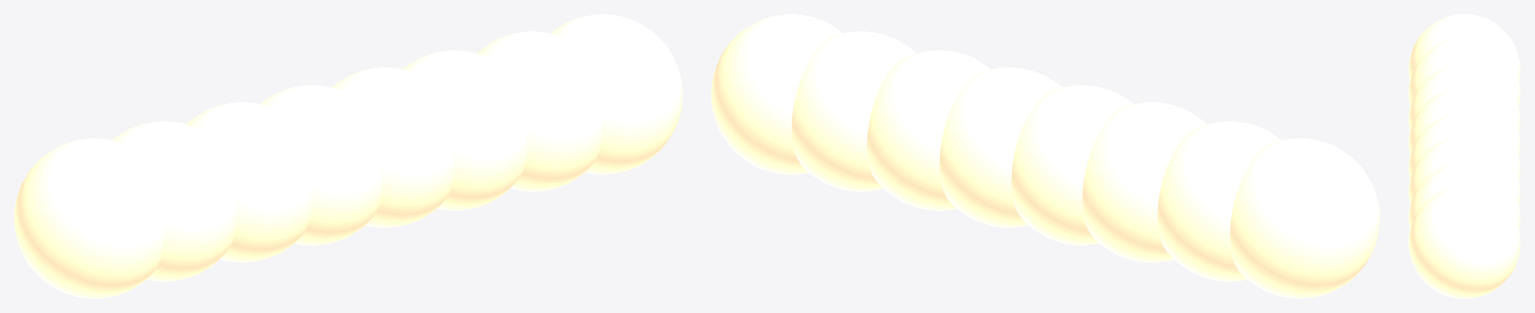
Rendered from larvae.glb.
3 views of the same model, side by side, from view 1: azimuth 30°, elevation 25°; view 2: azimuth 150°, elevation 25°; view 3: azimuth 270°, elevation 25° (orthographic). The views are drawn at different scales.
Visible parts, largest first — view 1: Sphere.001; view 2: Sphere.001; view 3: Sphere.001.
Boxes of the visible parts, left/top/right/bottom form: Sphere.001: left=14, top=14, right=682, bottom=298; Sphere.001: left=711, top=14, right=1379, bottom=298; Sphere.001: left=1408, top=14, right=1520, bottom=298.
Bounding box in the file's own units: 9.29 × 2 × 2.
